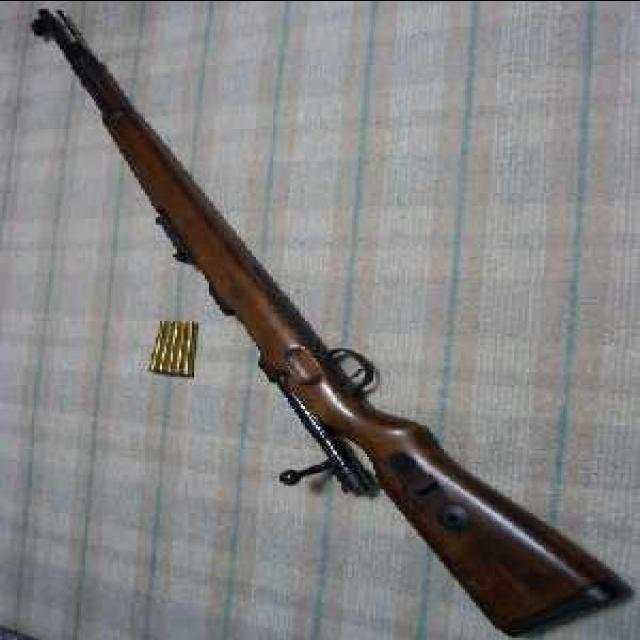heavyweapon: (16, 6, 622, 636)
